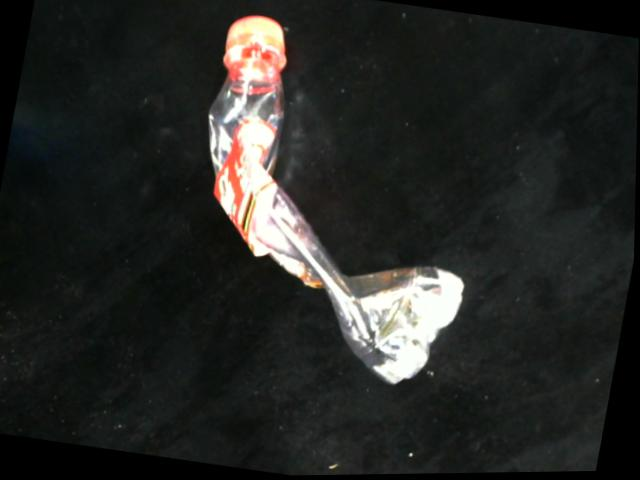bottle: (204, 22, 467, 388)
